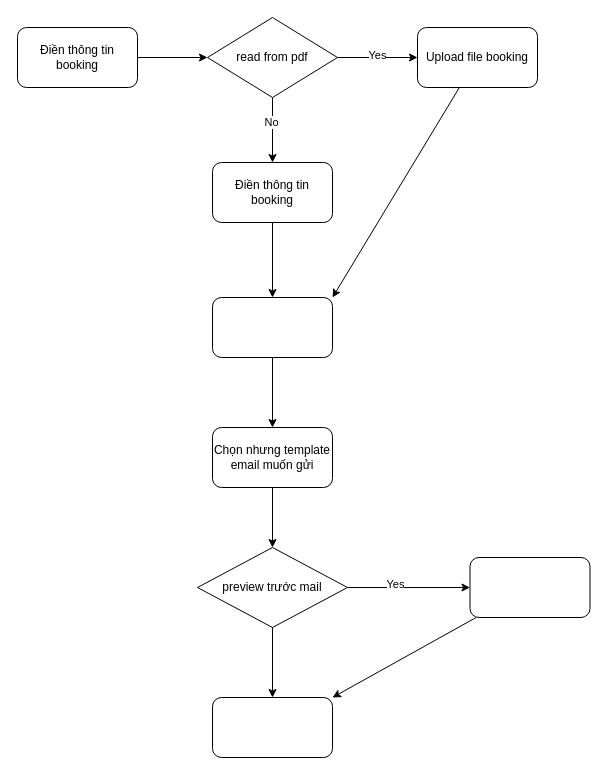
This 608x775 diagram has some shape labels left out. The shapes that lost their labels are listed below. From the top down, each one's centre as x and y in pixels, then its label:
At (272,327): "Preview thông tin booking extract được".
At (529,587): "Đọc mail preview".
At (272,727): "Chọn link bấm vào, bay sang mail client".
